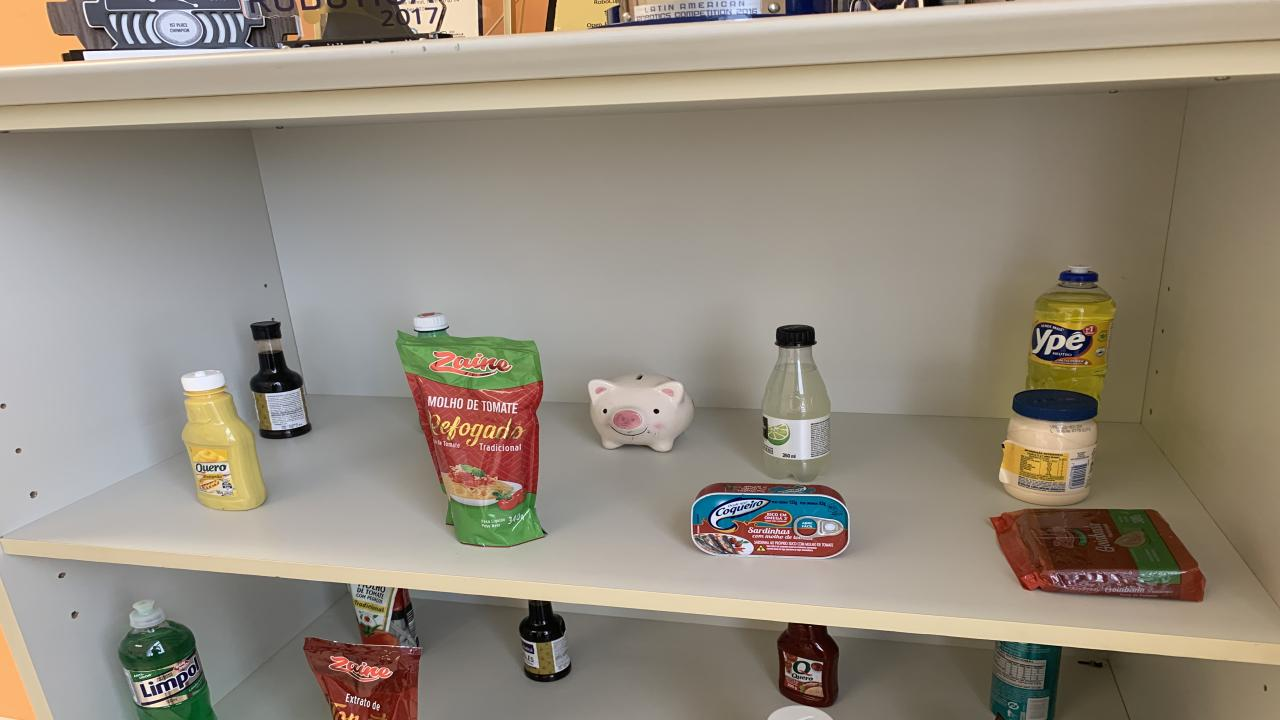Detergent-Cleanup_Items: (1025, 266, 1115, 399), (118, 600, 215, 720)
English_Sauce-Pantry_Items: (250, 321, 310, 439), (520, 600, 570, 682)
Guarana-Drinks: (412, 313, 448, 338)
Guava-Snacks: (990, 508, 1205, 600)
Ketchup-Pantry_Items: (778, 622, 840, 707)
Mayonnaise-Pantry_Items: (1000, 390, 1098, 506)
Mustard-Pantry_Items: (182, 369, 268, 510)
Pig_Safe-Miscellaneous: (588, 373, 695, 452)
Soda-Drinks: (762, 324, 830, 482)
Tea-Drinks: (990, 641, 1062, 720)
Tomato_Sauce-Pantry_Items: (395, 332, 545, 546), (302, 638, 422, 720), (350, 585, 420, 647)
Tuna_Can-Pantry_Items: (690, 484, 850, 559)
